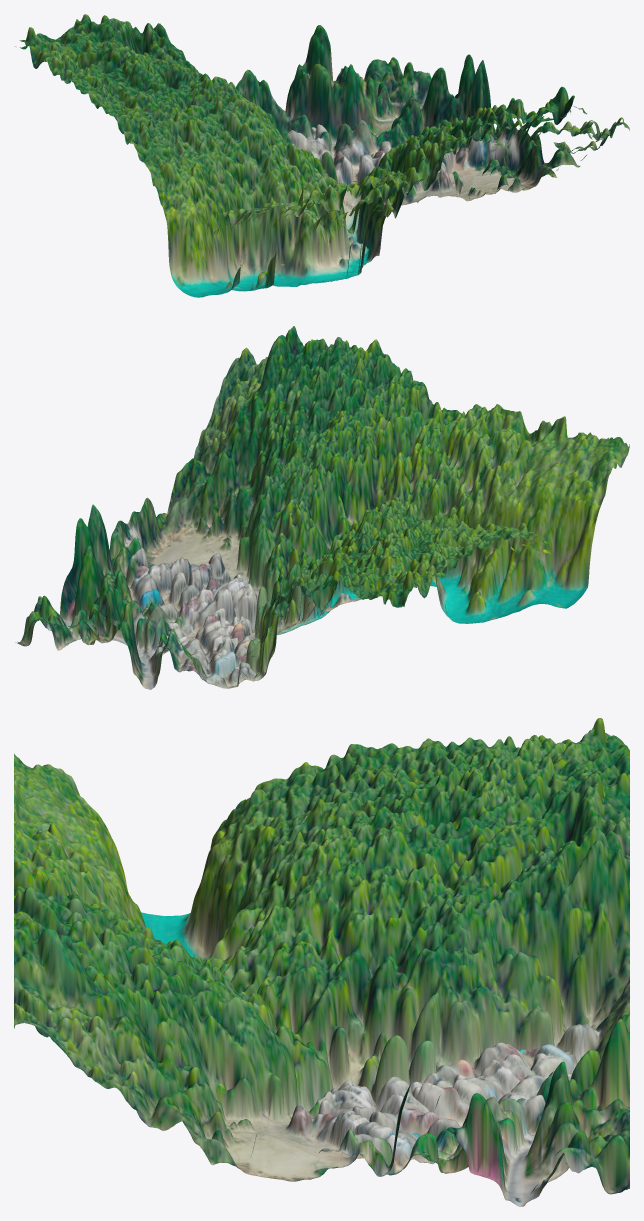
Rendered from dsm_2ef704cdac_mesh.glb.
3 renders of one model, top to bottom at view 1: azimuth 30°, elevation 25°; view 2: azimuth 150°, elevation 25°; view 3: azimuth 270°, elevation 25°, orthographic. The views are drawn at different scales.
Visible parts, largest first — view 1: geometry_0; view 2: geometry_0; view 3: geometry_0.
Boxes of the visible parts, x1,y1,x2,y2 form: geometry_0: (15,14,629,297); geometry_0: (15,326,629,689); geometry_0: (14,718,629,1206).
Size of the model in its own units: 2 by 1 by 2.
